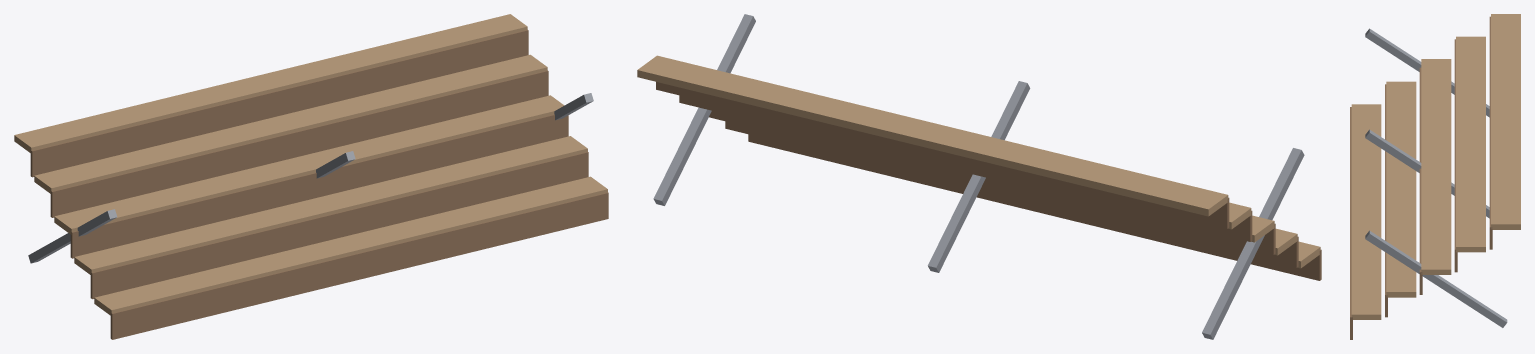
The model's file is bleachers.glb.
The picture shows the model from 3 angles, left to right: view 1: azimuth 30°, elevation 25°; view 2: azimuth 150°, elevation 25°; view 3: azimuth 270°, elevation 25°; orthographic projection. The views are drawn at different scales.
Visible parts, largest first — view 1: bleachers; view 2: bleachers; view 3: bleachers.
Part boxes in pixels (<box>): bleachers: <box>14,14,608,339</box>; bleachers: <box>637,14,1321,339</box>; bleachers: <box>1350,14,1520,339</box>.
Bounding box in the file's own units: 10 × 2.56 × 3.43.
